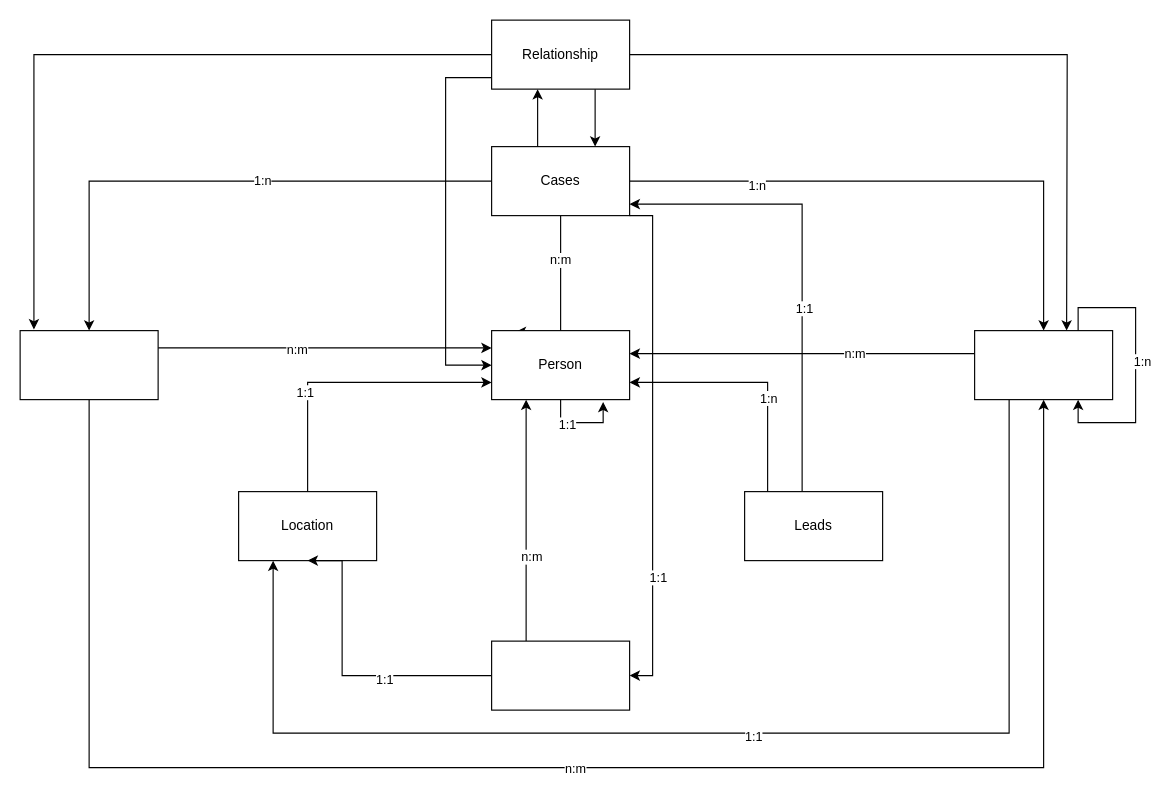
The diagram is 1171 pixels wide and 797 high, and some of its shapes have lost their labels. Here are the shapes that lost their labels. From the top down, the box of each, then its label:
(19, 329, 158, 400): Activity
(973, 329, 1113, 400): Object
(490, 640, 630, 710): Incidents
